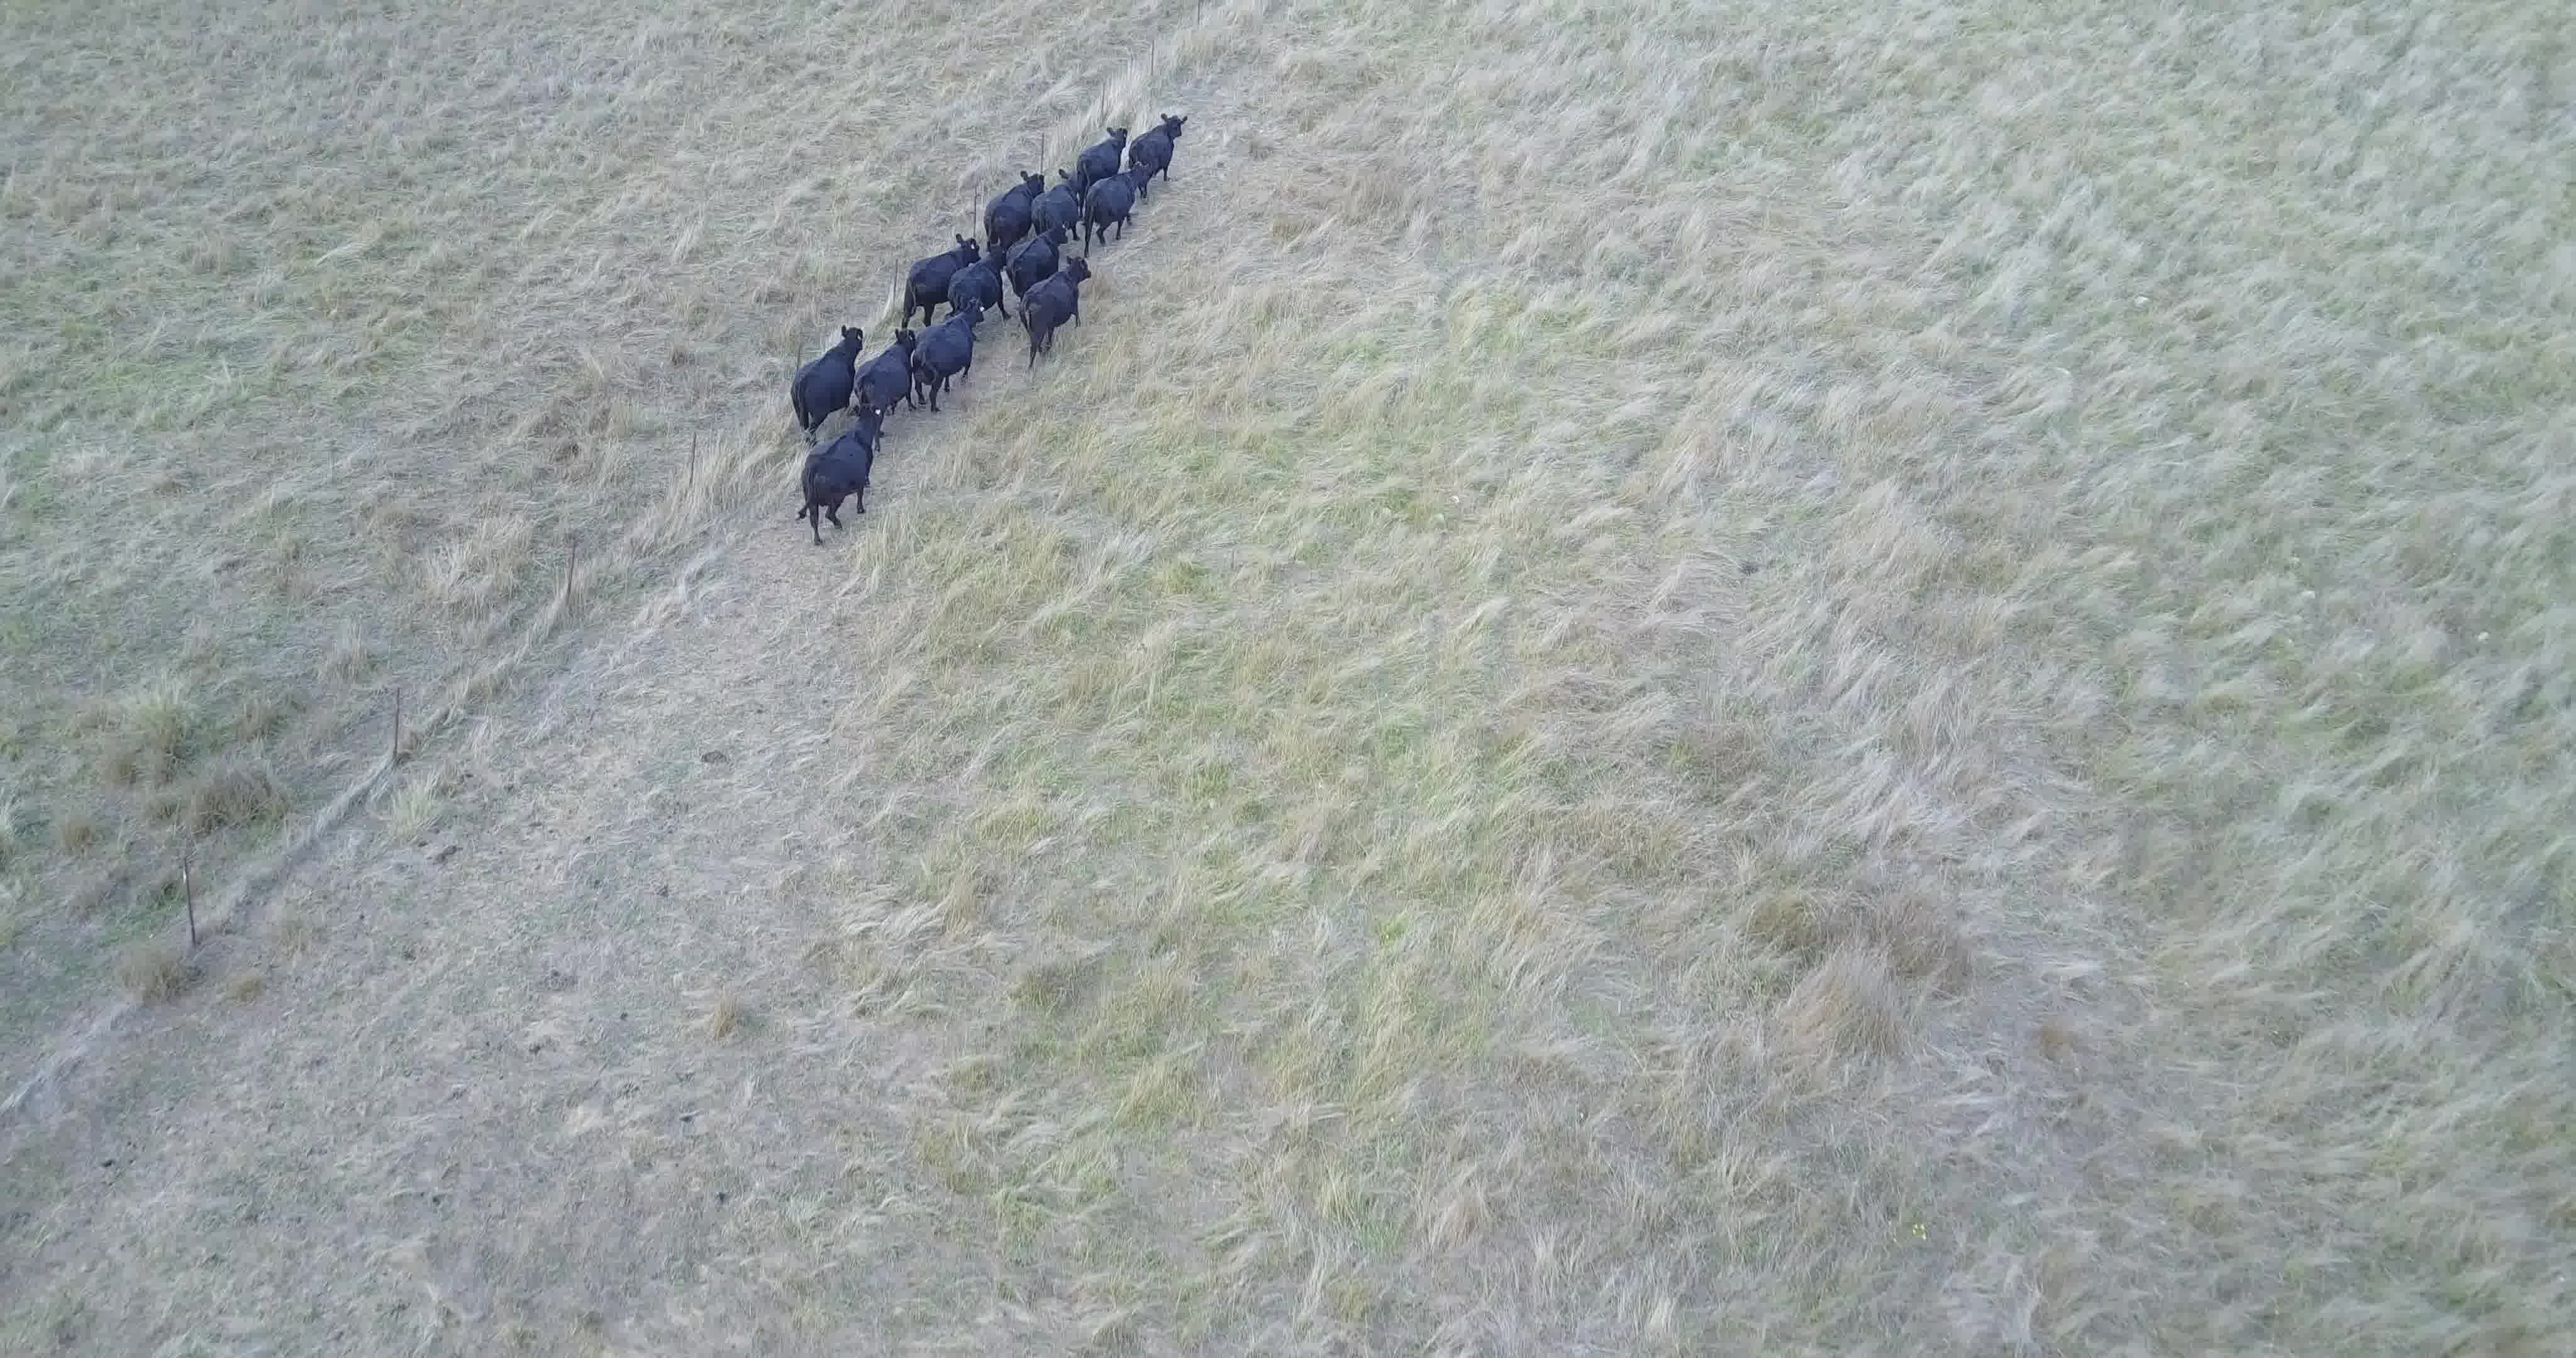cattle: (794, 404, 898, 544), (780, 322, 865, 445), (908, 295, 995, 412), (1019, 257, 1095, 370), (854, 327, 915, 429), (1087, 162, 1153, 254), (1130, 112, 1196, 201), (903, 233, 976, 314), (981, 172, 1043, 247), (956, 242, 1010, 322), (1031, 167, 1085, 244), (1007, 223, 1067, 285), (1073, 126, 1128, 182)
